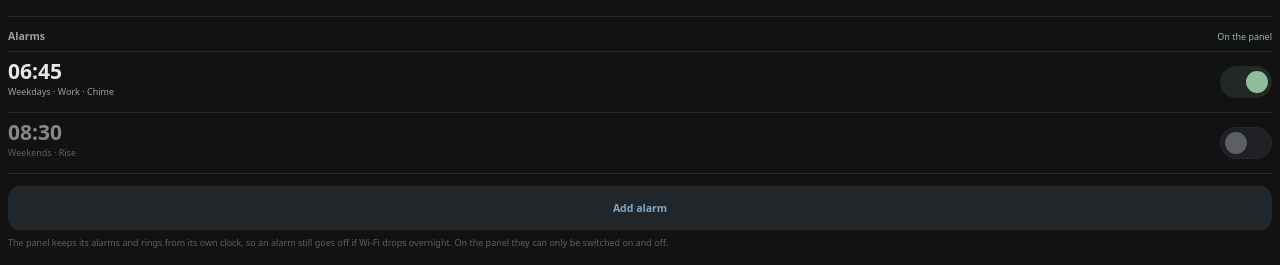
Test: the desk panel's alarms › switches one off with the whole alarm, and waits for the panel to fetch it
This screenshot has width=1280, height=265.
Click the switch named "Alarm 06:45, on" at (1246, 82), box [1220,66,1272,98]
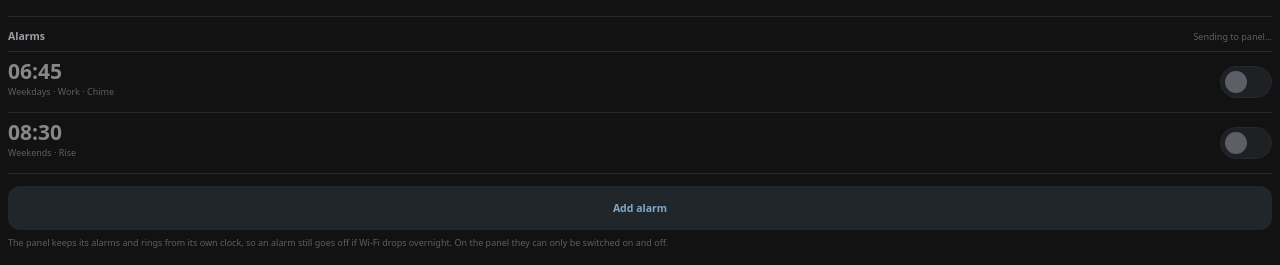
Now the switch named "Alarm 06:45, off" is shown, box [1220,66,1272,98]
Now the text "Sending to panel…" is shown, box [1193,30,1272,42]
